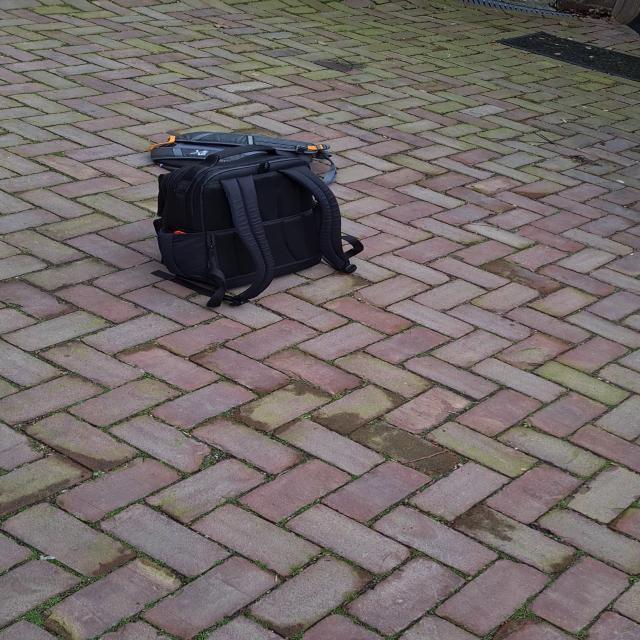backpack: (140, 126, 354, 307)
